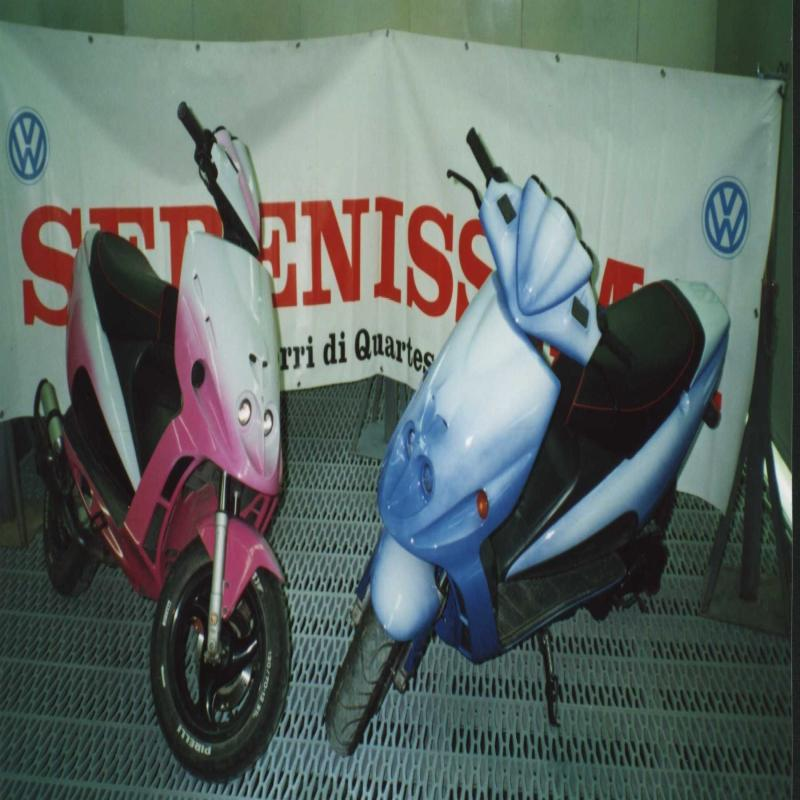bike: (353, 96, 724, 791), (29, 120, 325, 756)
